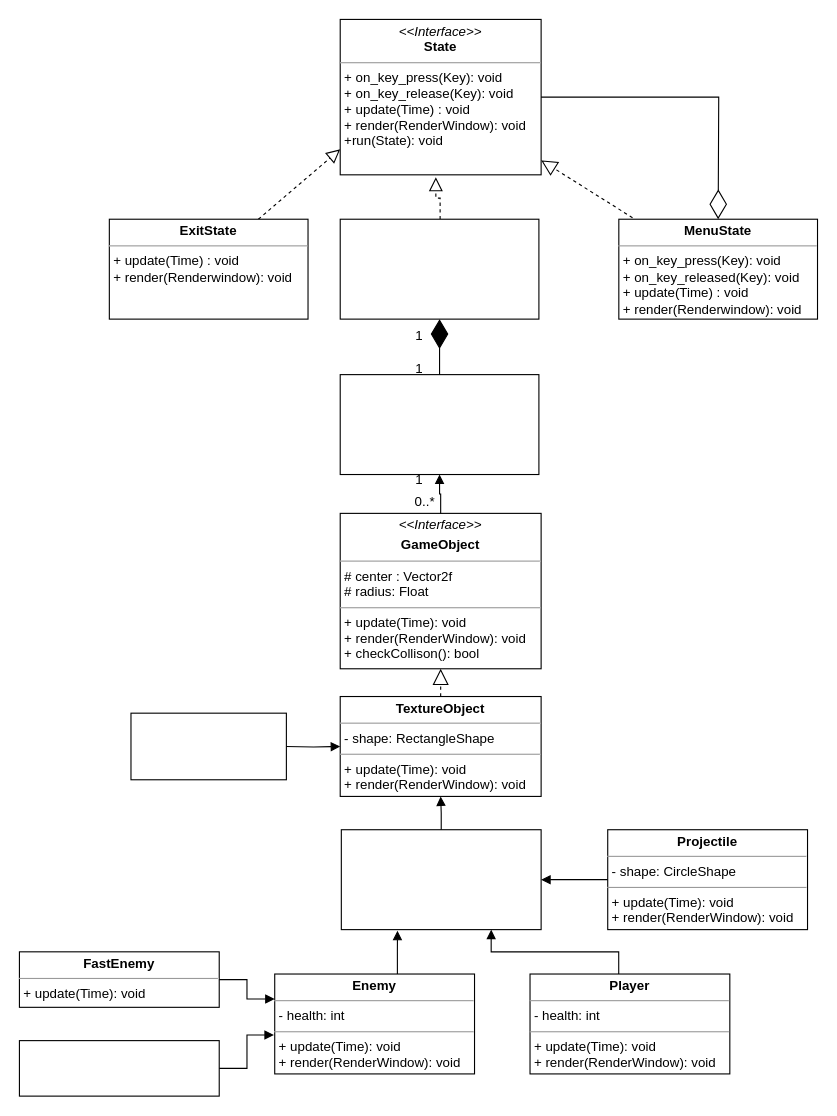
Some shapes in this 837 by 1116 pixel diagram are drawn without their labels. Here are the shapes that lost their labels. From the top down, the centre of each, then its label:
At pixel 439 268: "GameState + update(Time) : void + render(Renderwindow): void".
At pixel 439 424: "Game + update(Time) : void + render(Renderwindow): void".
At pixel 208 746: "Obstacle".
At pixel 440 879: "MovableObject - speed: Float + update(Time): void + render(RenderWindow): void".
At pixel 118 1068: "SlowEnemy + update(Time): void".
